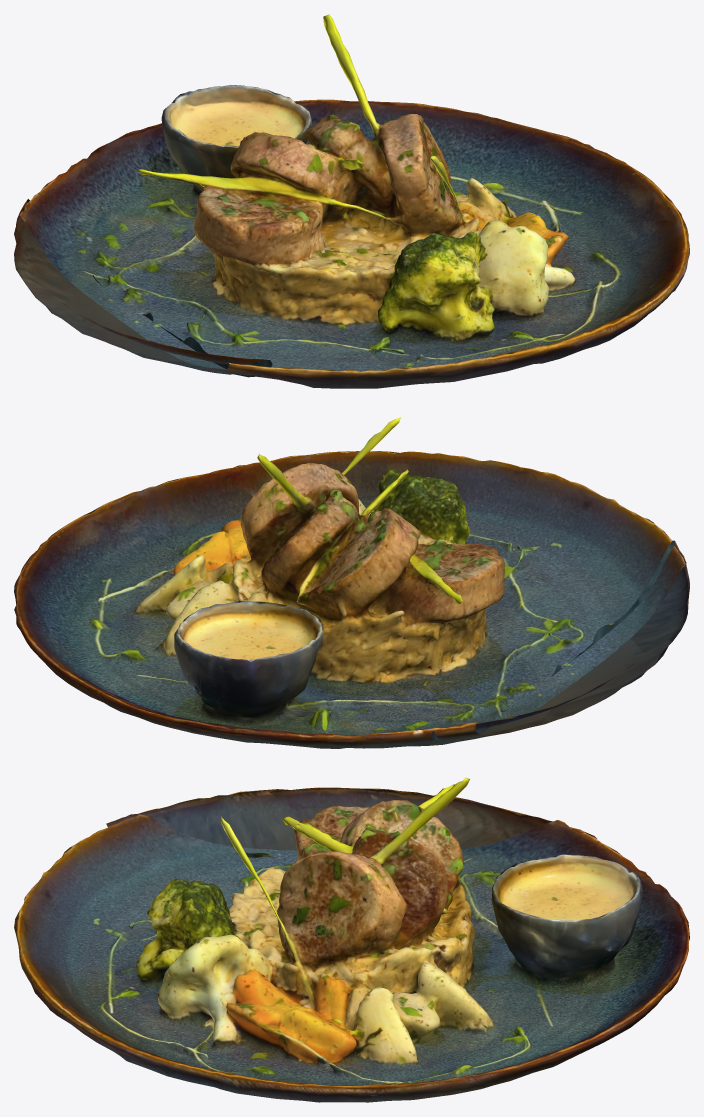
File: filet.ar.glb
The picture shows the model from 3 angles, top to bottom: view 1: azimuth 30°, elevation 25°; view 2: azimuth 150°, elevation 25°; view 3: azimuth 270°, elevation 25°; orthographic projection.
Parts seen in each view (by area): view 1: /ObjectCapture/Geometry/Mesh; view 2: /ObjectCapture/Geometry/Mesh; view 3: /ObjectCapture/Geometry/Mesh.
Part boxes in pixels (<box>): /ObjectCapture/Geometry/Mesh: <box>14,14,689,388</box>; /ObjectCapture/Geometry/Mesh: <box>14,417,689,748</box>; /ObjectCapture/Geometry/Mesh: <box>14,777,689,1102</box>.
Size of the model in its own units: 0.2778 by 0.1003 by 0.2736.
2 materials, 2 textured.
